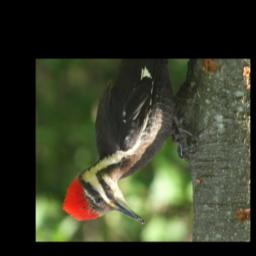Woodpecker: (63, 60, 196, 225)
